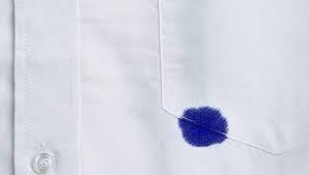ink: (179, 108, 229, 147)
